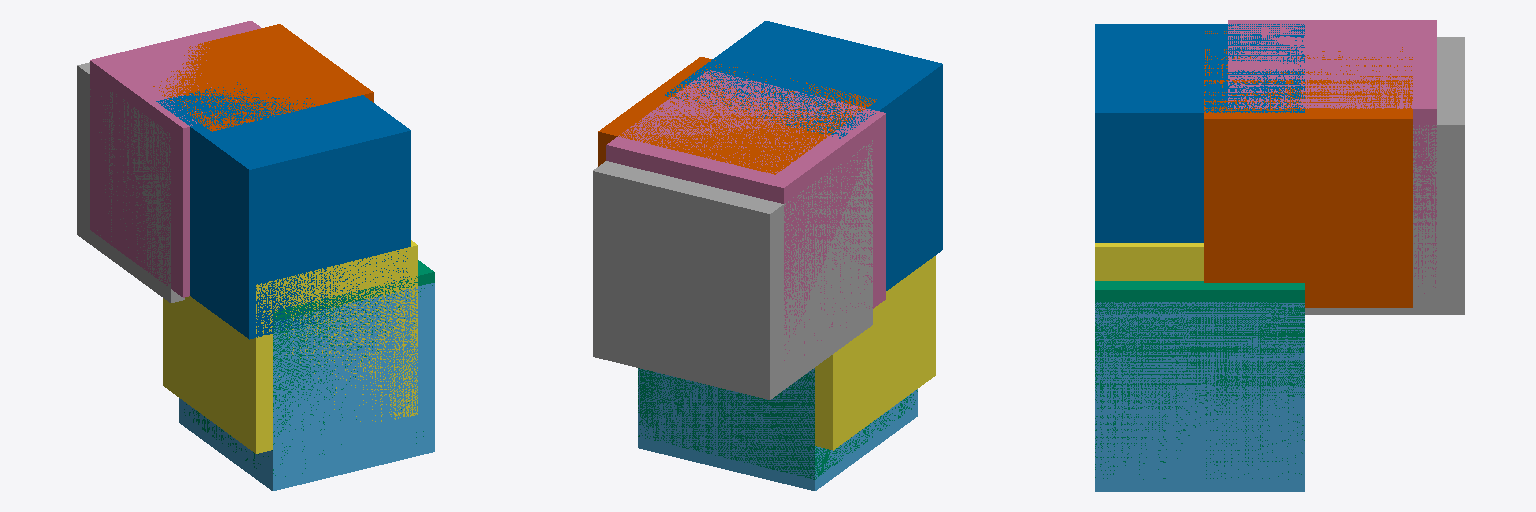
robot.urdf — r6bot:
<?xml version="1.0" ?>
<!-- =================================================================================== -->
<!-- |    This document was autogenerated by xacro from src/gungnir_description/urdf/robot.urdf.xacro | -->
<!-- |    EDITING THIS FILE BY HAND IS NOT RECOMMENDED                                 | -->
<!-- =================================================================================== -->
<robot name="r6bot">
  <!-- create link fixed to the "world" -->
  <link name="world"/>
  <link name="base_link">
    <visual>
      <origin rpy="0 0 0" xyz="0 0 0"/>
      <geometry>
        <box size="1 1 1"/>
      </geometry>
    </visual>
    <collision>
      <origin rpy="0 0 0" xyz="0 0 0"/>
      <geometry>
        <box size="1 1 1"/>
      </geometry>
    </collision>
    <inertial>
      <mass value="1"/>
      <inertia ixx="1.0" ixy="0.0" ixz="0.0" iyy="1.0" iyz="0.0" izz="1.0"/>
    </inertial>
  </link>
  <link name="link_1">
    <visual>
      <origin rpy="0 0 0" xyz="0 0 -0.182"/>
      <geometry>
        <box size="1 1 1"/>
      </geometry>
    </visual>
    <collision>
      <origin rpy="0 0 0" xyz="0 0 -0.182"/>
      <geometry>
        <box size="1 1 1"/>
      </geometry>
    </collision>
    <inertial>
      <mass value="1"/>
      <inertia ixx="1.0" ixy="0.0" ixz="0.0" iyy="1.0" iyz="0.0" izz="1.0"/>
    </inertial>
  </link>
  <link name="link_2">
    <visual>
      <origin rpy="0 0 0" xyz="0 0 -0.168"/>
      <geometry>
        <box size="1 1 1"/>
      </geometry>
    </visual>
    <collision>
      <origin rpy="0 0 0" xyz="0 0 -0.168"/>
      <geometry>
        <box size="1 1 1"/>
      </geometry>
    </collision>
    <inertial>
      <mass value="1"/>
      <inertia ixx="1.0" ixy="0.0" ixz="0.0" iyy="1.0" iyz="0.0" izz="1.0"/>
    </inertial>
  </link>
  <link name="link_3">
    <visual>
      <origin rpy="0 0 0" xyz="0 0 -0.144"/>
      <geometry>
        <box size="1 1 1"/>
      </geometry>
    </visual>
    <collision>
      <origin rpy="0 0 0" xyz="0 0 -0.144"/>
      <geometry>
        <box size="1 1 1"/>
      </geometry>
    </collision>
    <inertial>
      <mass value="1"/>
      <inertia ixx="1.0" ixy="0.0" ixz="0.0" iyy="1.0" iyz="0.0" izz="1.0"/>
    </inertial>
  </link>
  <link name="link_4">
    <visual>
      <origin rpy="0 0 0" xyz="0 0 0.077"/>
      <geometry>
        <box size="1 1 1"/>
      </geometry>
    </visual>
    <collision>
      <origin rpy="0 0 0" xyz="0 0 0.077"/>
      <geometry>
        <box size="1 1 1"/>
      </geometry>
    </collision>
    <inertial>
      <mass value="1"/>
      <inertia ixx="1.0" ixy="0.0" ixz="0.0" iyy="1.0" iyz="0.0" izz="1.0"/>
    </inertial>
  </link>
  <link name="link_5">
    <visual>
      <origin rpy="0 0 0" xyz="0 0 0.113"/>
      <geometry>
        <box size="1 1 1"/>
      </geometry>
    </visual>
    <collision>
      <origin rpy="0 0 0" xyz="0 0 0.113"/>
      <geometry>
        <box size="1 1 1"/>
      </geometry>
    </collision>
    <inertial>
      <mass value="1"/>
      <inertia ixx="1.0" ixy="0.0" ixz="0.0" iyy="1.0" iyz="0.0" izz="1.0"/>
    </inertial>
  </link>
  <link name="link_6">
    <visual>
      <origin rpy="0 0 0" xyz="0 0 0.086"/>
      <geometry>
        <box size="1 1 1"/>
      </geometry>
    </visual>
    <collision>
      <origin rpy="0 0 0" xyz="0 0 0.086"/>
      <geometry>
        <box size="1 1 1"/>
      </geometry>
    </collision>
    <inertial>
      <mass value="1"/>
      <inertia ixx="1.0" ixy="0.0" ixz="0.0" iyy="1.0" iyz="0.0" izz="1.0"/>
    </inertial>
  </link>
  <link name="ft_frame"/>
  <link name="tool0"/>
  <!-- base_joint fixes base_link to the environment -->
  <joint name="base_joint" type="fixed">
    <parent link="world"/>
    <child link="base_link"/>
    <origin rpy="0 0 0" xyz="0 0 0"/>
    <axis xyz="0 0 1"/>
  </joint>
  <!-- joints - main serial chain -->
  <joint name="joint_1" type="revolute">
    <parent link="base_link"/>
    <child link="link_1"/>
    <origin rpy="0 0 0" xyz="0 0 0.244"/>
    <axis xyz="0 0 1"/>
    <limit effort="1000.0" lower="-3.141592653589793" upper="3.141592653589793" velocity="2.5"/>
  </joint>
  <joint name="joint_2" type="revolute">
    <parent link="link_1"/>
    <child link="link_2"/>
    <origin rpy="-1.5707963267948966 -1.5707963267948966 1.5707963267948966" xyz="-0.27 0 0.0"/>
    <axis xyz="0 0 1"/>
    <limit effort="1000.0" lower="-3.141592653589793" upper="3.141592653589793" velocity="2.5"/>
  </joint>
  <joint name="joint_3" type="revolute">
    <parent link="link_2"/>
    <child link="link_3"/>
    <origin rpy="0 3.141592653589793 4.71238898038469" xyz="0.686 0 -0.27"/>
    <axis xyz="0 0 1"/>
    <limit effort="1000.0" lower="-3.141592653589793" upper="3.141592653589793" velocity="2.5"/>
  </joint>
  <joint name="joint_4" type="revolute">
    <parent link="link_3"/>
    <child link="link_4"/>
    <origin rpy="0 3.141592653589793 3.141592653589793" xyz="0.519 0 0"/>
    <axis xyz="0 0 1"/>
    <limit effort="1000.0" lower="-3.141592653589793" upper="3.141592653589793" velocity="2.5"/>
  </joint>
  <joint name="joint_5" type="revolute">
    <parent link="link_4"/>
    <child link="link_5"/>
    <origin rpy="1.5707963267948966 3.141592653589793 1.5707963267948966" xyz="0.0 0 0.188"/>
    <axis xyz="0 0 1"/>
    <limit effort="1000.0" lower="-3.141592653589793" upper="3.141592653589793" velocity="2.5"/>
  </joint>
  <joint name="joint_6" type="revolute">
    <parent link="link_5"/>
    <child link="link_6"/>
    <origin rpy="0 -1.5707963267948966 0" xyz="0.0 0 0.246"/>
    <axis xyz="0 0 1"/>
    <limit effort="1000.0" lower="-3.141592653589793" upper="3.141592653589793" velocity="2.5"/>
  </joint>
  <joint name="joint-ft_frame" type="fixed">
    <parent link="link_6"/>
    <child link="ft_frame"/>
    <origin rpy="0 0 0" xyz="0 0 0.086"/>
  </joint>
  <joint name="joint-tool" type="fixed">
    <parent link="ft_frame"/>
    <child link="tool0"/>
    <origin rpy="0 0 0" xyz="0 0 0.185"/>
  </joint>
</robot>

--- What the picture shows (computed from the rendered views, not written in the file) ---
The picture shows the robot from 3 angles, left to right: view 1: azimuth 30°, elevation 25°; view 2: azimuth 150°, elevation 25°; view 3: azimuth 270°, elevation 25°; orthographic projection.
Model r6bot with 10 links and 9 joints (6 revolute, 3 fixed), rooted at world, posed all joints at 0.
Visible links, largest first — view 1: link_3, base_link, link_5, link_2, link_4, link_6, link_1; view 2: link_6, link_3, link_5, link_2, base_link, link_4, link_1; view 3: link_4, base_link, link_3, link_5, link_1, link_6, link_2.
Link boxes in pixels (bbox=[...]): link_3: bbox=[156, 82, 410, 339]; base_link: bbox=[179, 283, 434, 490]; link_5: bbox=[90, 21, 260, 297]; link_2: bbox=[163, 240, 417, 453]; link_4: bbox=[153, 24, 373, 131]; link_6: bbox=[77, 62, 184, 302]; link_1: bbox=[184, 260, 434, 476]; link_6: bbox=[593, 140, 872, 399]; link_3: bbox=[665, 21, 942, 290]; link_5: bbox=[606, 70, 885, 360]; link_2: bbox=[815, 256, 935, 450]; base_link: bbox=[638, 368, 917, 490]; link_4: bbox=[598, 57, 876, 174]; link_1: bbox=[638, 368, 917, 479]; link_4: bbox=[1204, 31, 1412, 307]; base_link: bbox=[1095, 302, 1304, 491]; link_3: bbox=[1095, 24, 1304, 242]; link_5: bbox=[1228, 20, 1436, 293]; link_1: bbox=[1095, 281, 1304, 479]; link_6: bbox=[1305, 37, 1464, 314]; link_2: bbox=[1095, 243, 1203, 280].
Bounding box of the posed robot: 1.19 × 1.76 × 1.93 m (x, y, z).
Geometry: primitives only (box / cylinder / sphere), no mesh files.
